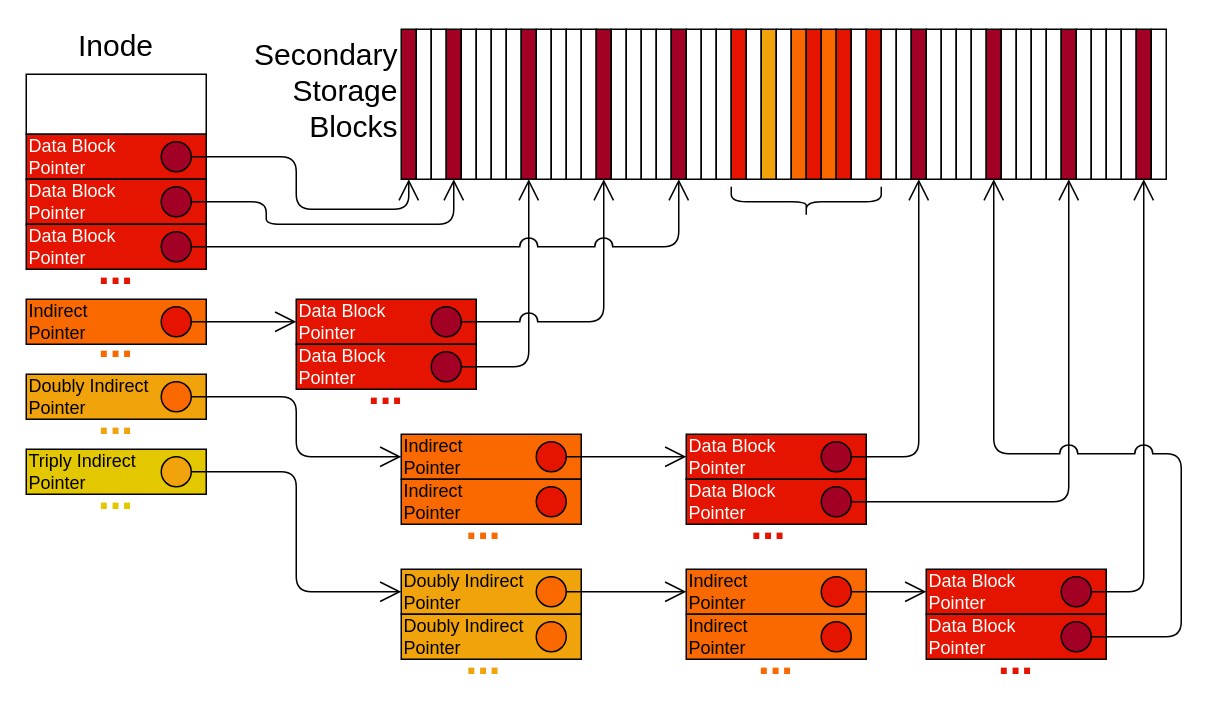
The diagram is 1229 pixels wide and 710 high, and some of its shapes have lost their labels. Each missing label, with the centre of its shape:
"blocks of indirect pointers" goes at (x=805, y=201).
"File Information" goes at (x=115, y=103).
